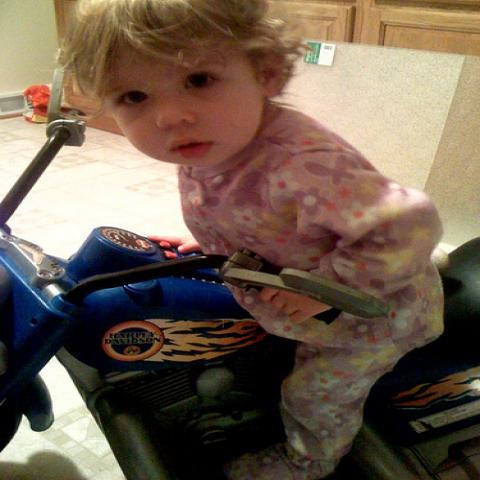motorcycle: (0, 124, 479, 479)
